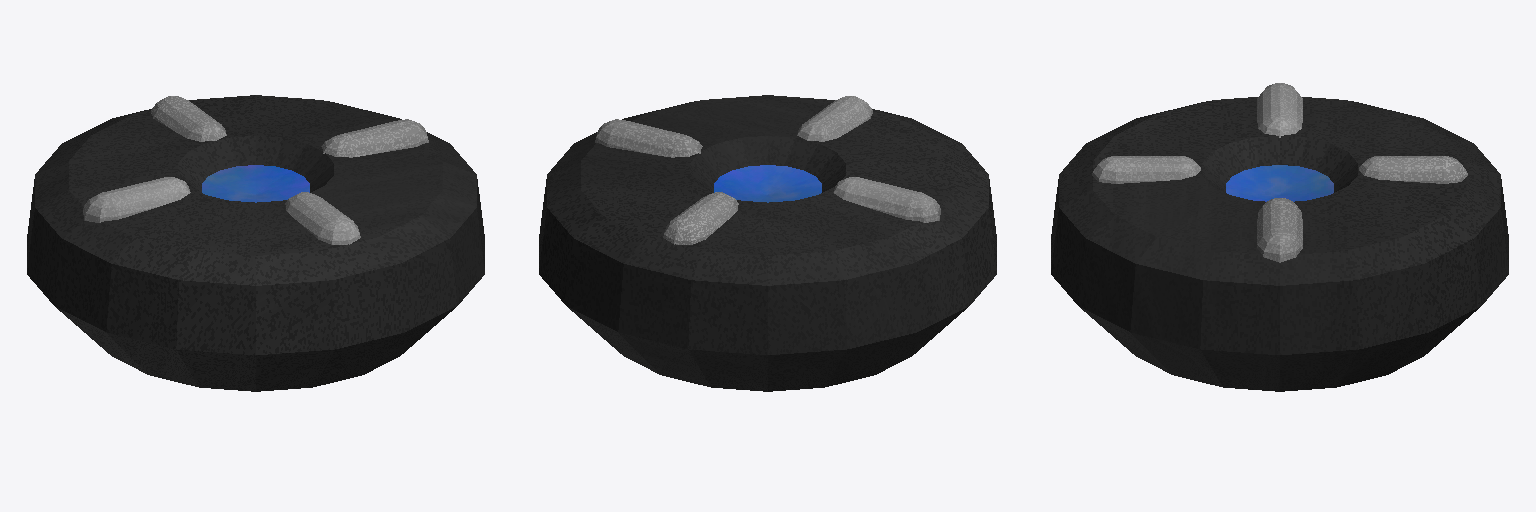
The picture shows the model from 3 angles: view 1: azimuth 30°, elevation 25°; view 2: azimuth 150°, elevation 25°; view 3: azimuth 270°, elevation 25°; orthographic projection.
Visible parts, largest first — view 1: polySurface5; view 2: polySurface5; view 3: polySurface5.
Part boxes in pixels (x1,y1,x2,y2): polySurface5: (27, 95, 484, 391); polySurface5: (539, 95, 996, 391); polySurface5: (1051, 83, 1508, 391).
Size of the model in its own units: 1.87 by 0.8682 by 1.84.
Materials: 1 (1 with a texture image).